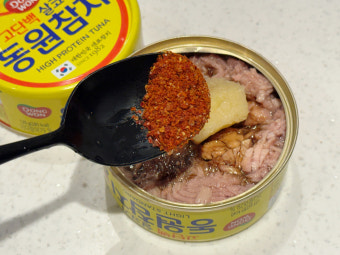paper: (101, 33, 301, 246), (0, 1, 145, 138)
